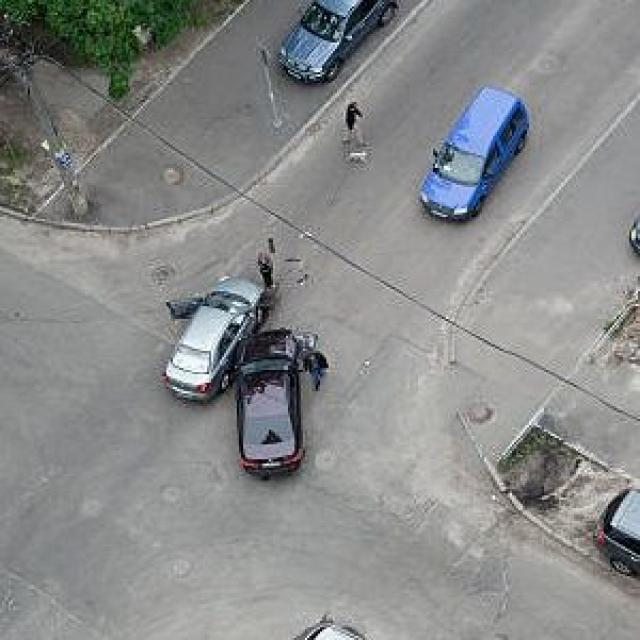traffic_incident: (154, 227, 346, 493)
